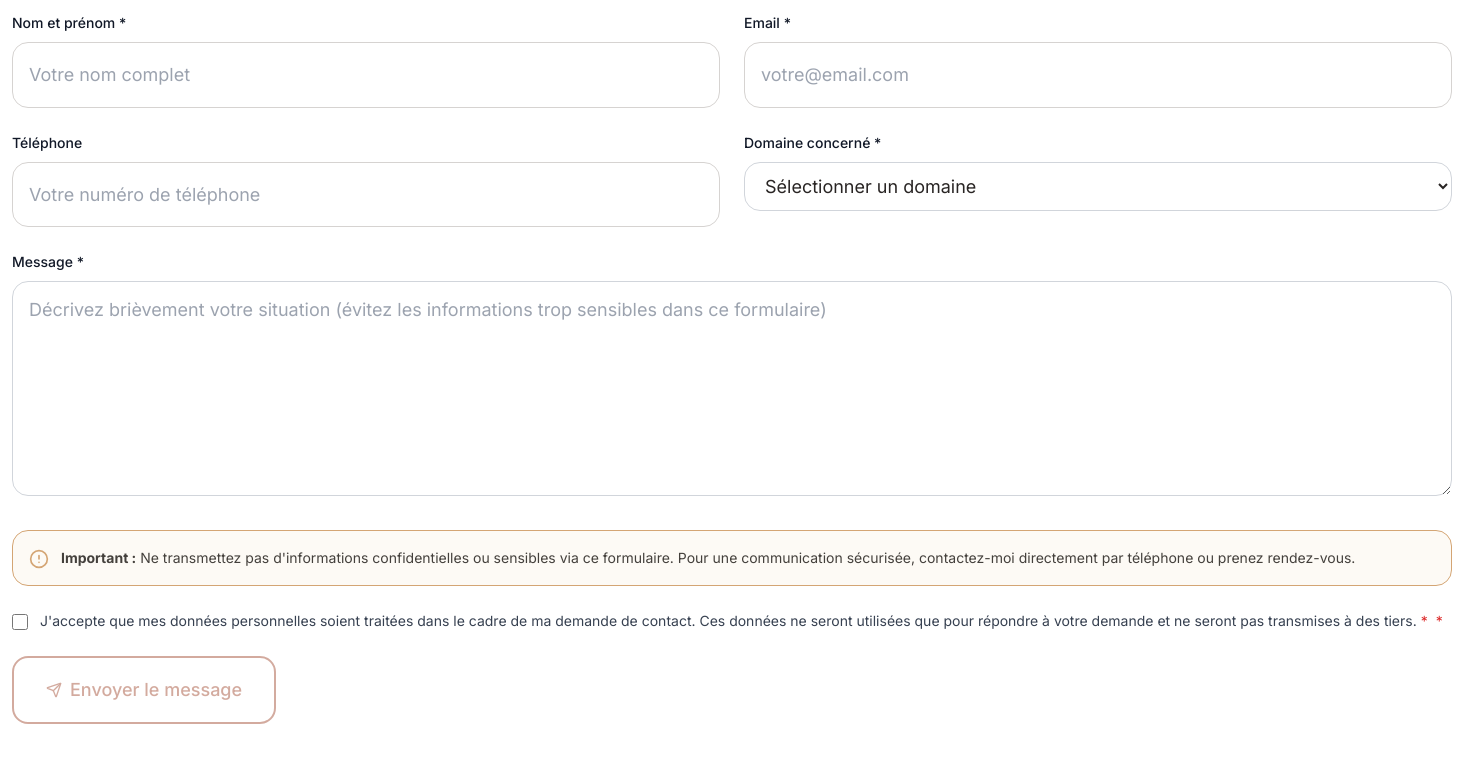
Test: ContactForm Integration › should show error message on submission failure
// Fill in all required fields
Type "John Doe" into the field labelled "Nom et prénom *" at (366, 75), box [12, 42, 720, 108]
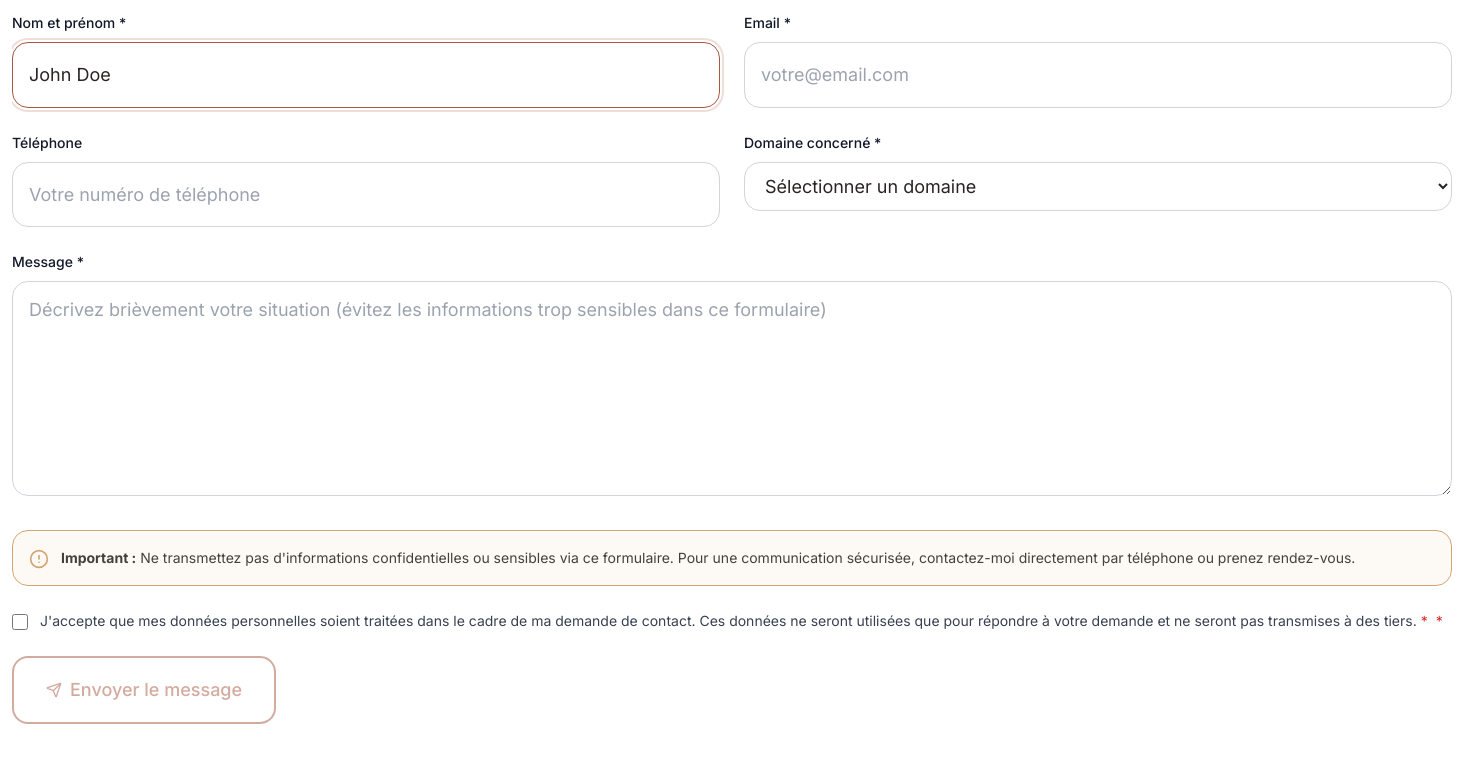
Type "john@example.com" into the field labelled "Email *" at (1098, 75), box [744, 42, 1452, 108]
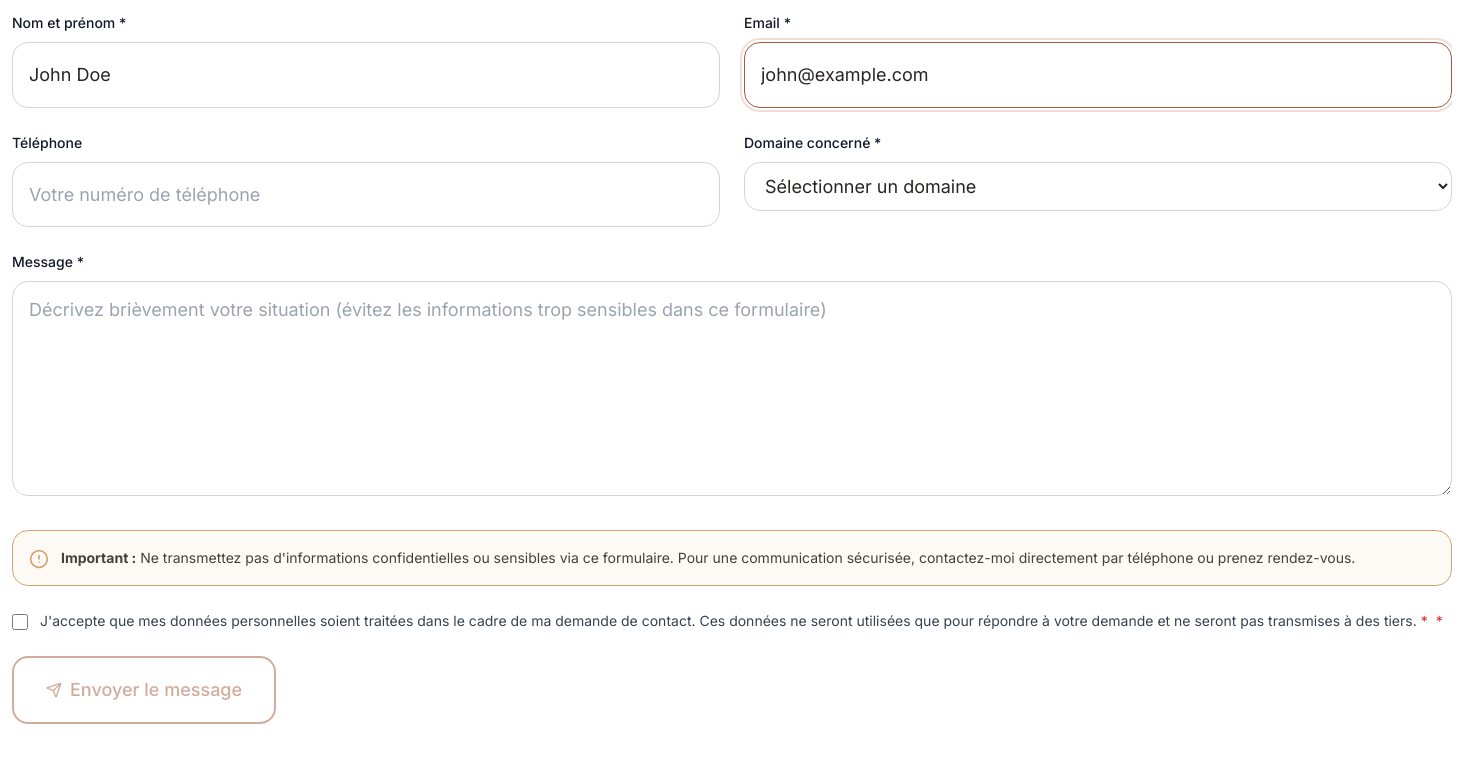
Select "Droit des contrats" in the dropdown labelled "Domaine concerné *" at (1098, 186), box [744, 162, 1452, 210]
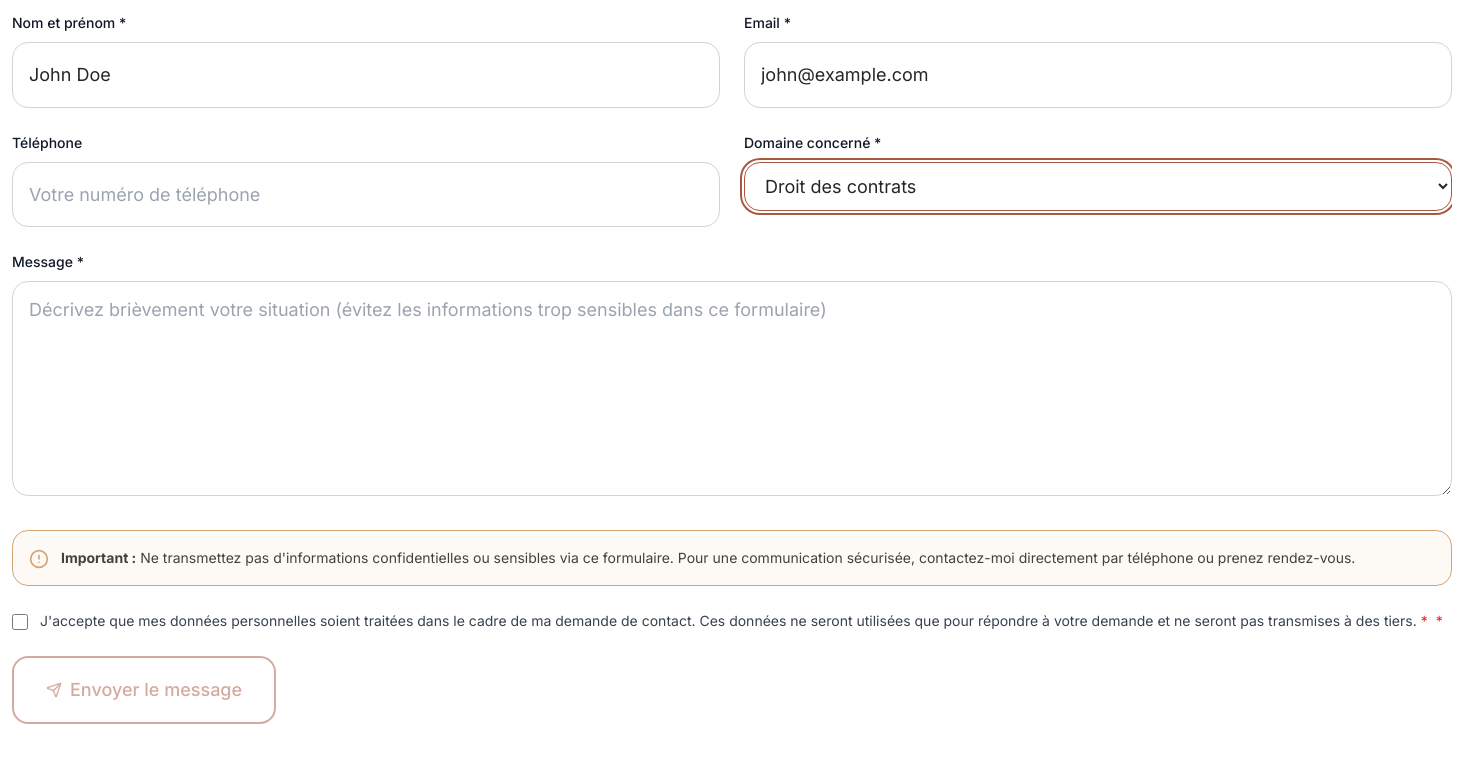
Type "This is a test message" into the text box labelled "Message *" at (732, 388), box [12, 281, 1452, 496]
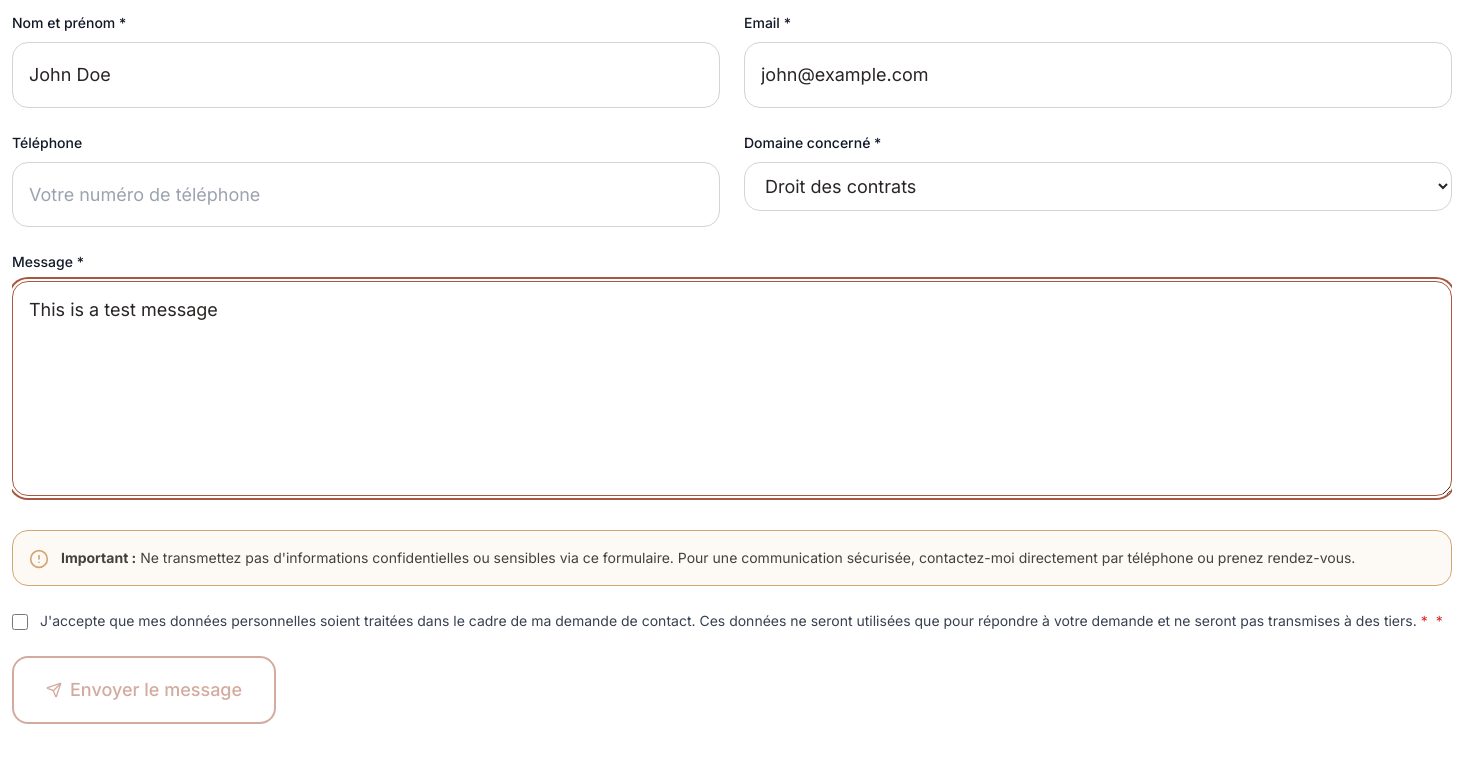
Click the checkbox at (20, 622), box [12, 614, 28, 630]
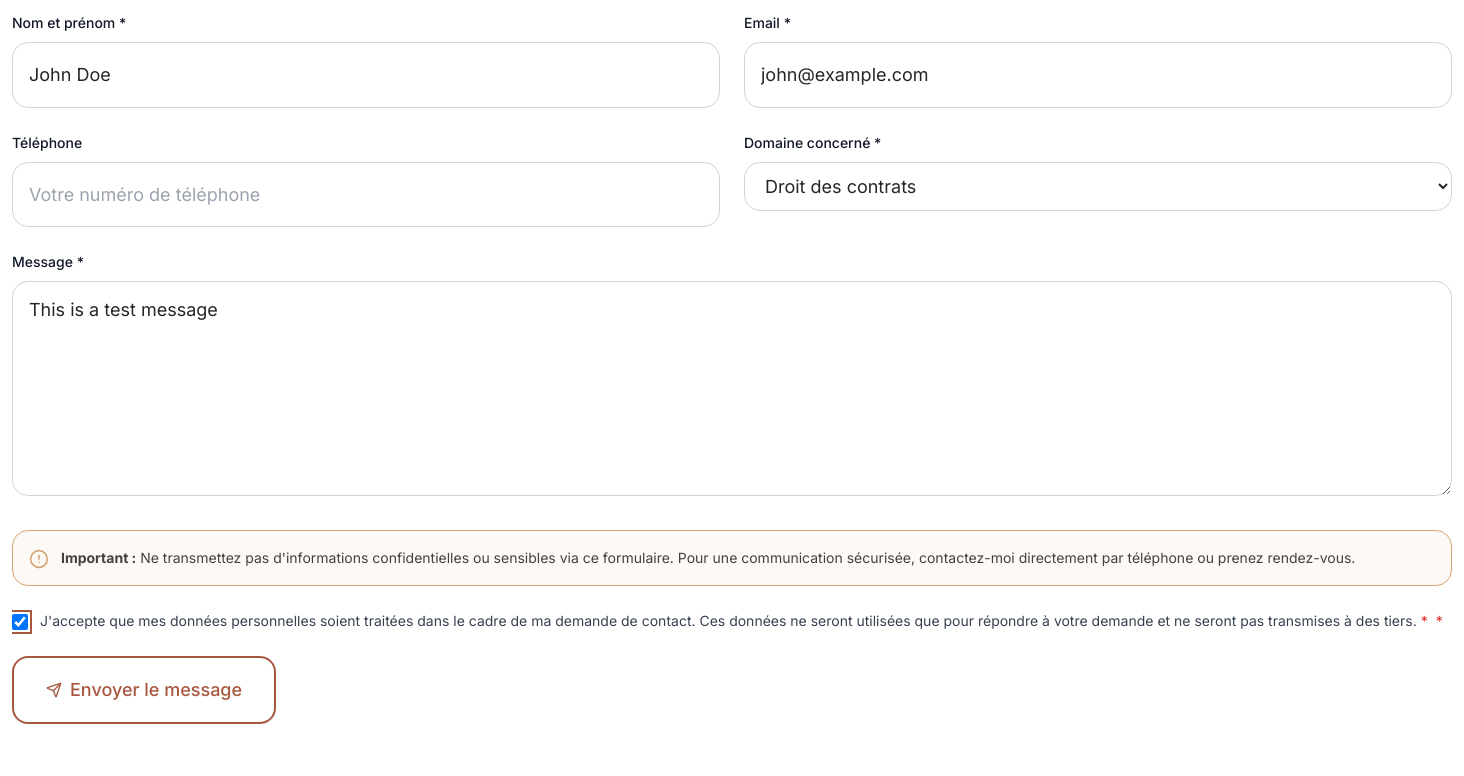
Click the button "Envoyer le message" at (144, 690), box [12, 656, 276, 724]
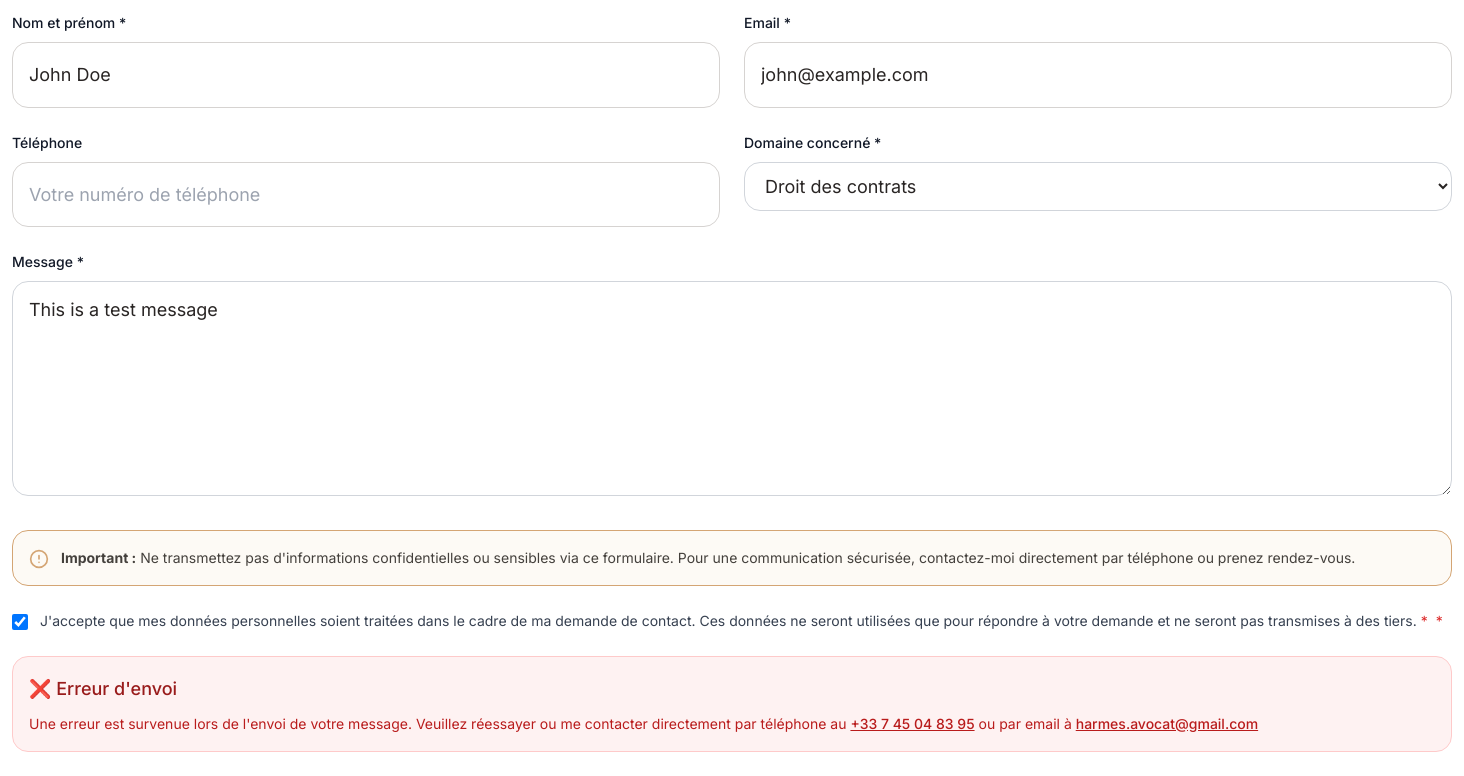
Now the text "❌ Erreur d'envoi" is shown, box [29, 678, 177, 699]
